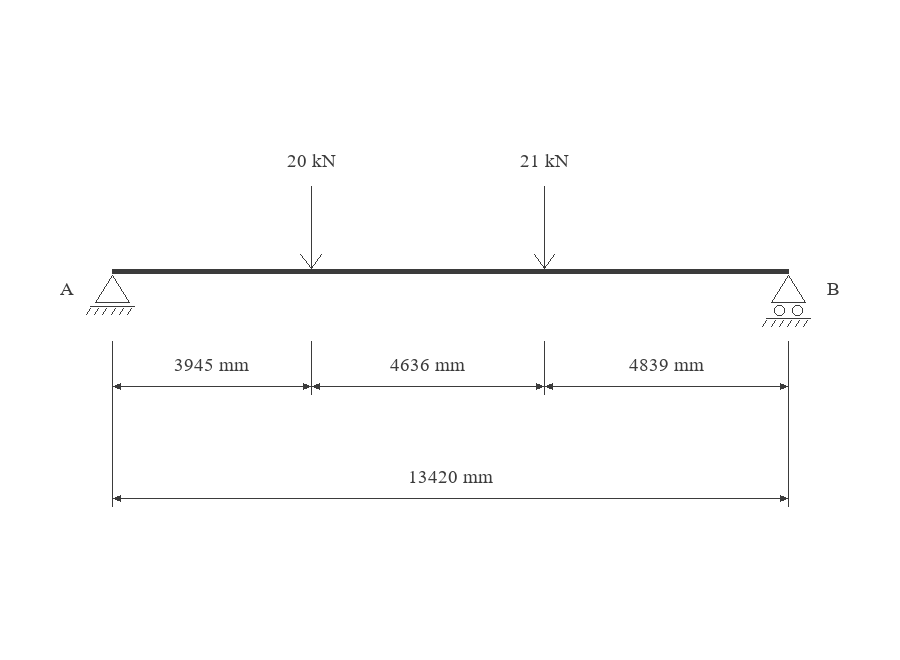pin_support: (86, 275, 135, 315)
point_load: (300, 186, 322, 269), (534, 186, 555, 269)
roller_support: (762, 275, 811, 327)
